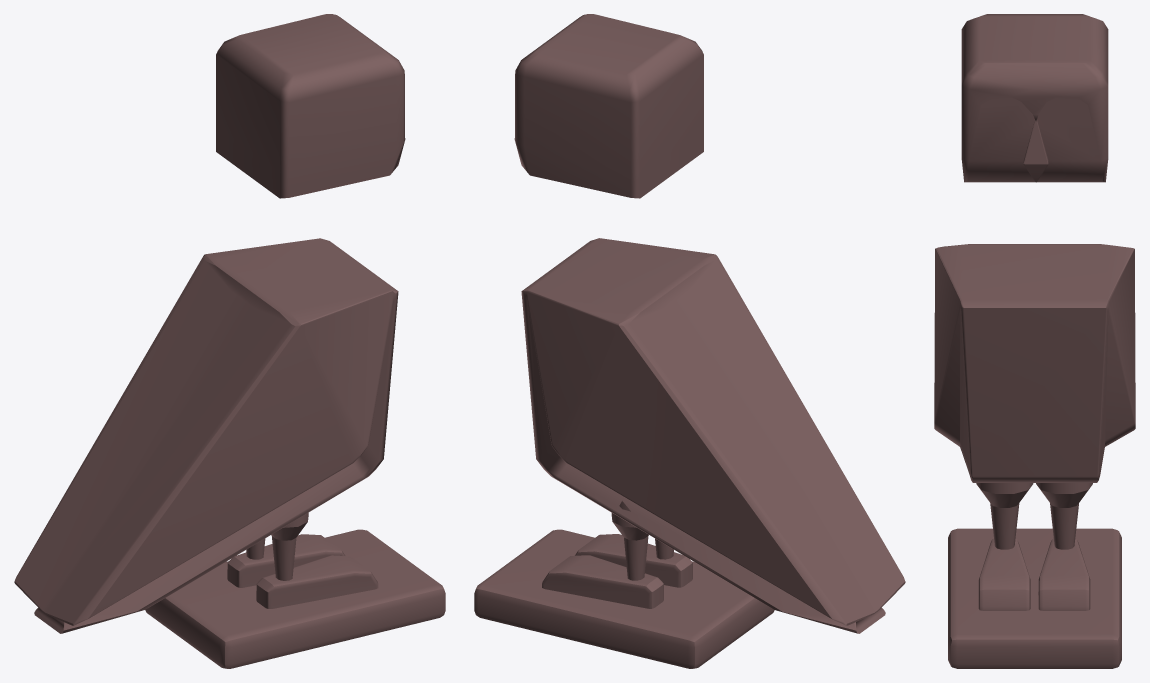
The model's file is Buho.fbx.
3 renders of one model, left to right at view 1: azimuth 30°, elevation 25°; view 2: azimuth 150°, elevation 25°; view 3: azimuth 270°, elevation 25°, orthographic. The views are drawn at different scales.
Visible parts, largest first — view 1: pCube14, pCube12; view 2: pCube14, pCube12; view 3: pCube14, pCube12.
Boxes of the visible parts, bbox=[...] form: pCube14: bbox=[14, 238, 445, 668]; pCube12: bbox=[216, 14, 405, 198]; pCube14: bbox=[474, 238, 905, 668]; pCube12: bbox=[514, 14, 703, 198]; pCube14: bbox=[934, 244, 1135, 668]; pCube12: bbox=[961, 14, 1108, 182].
Size of the model in its own units: 3.34 by 4.98 by 1.55.
